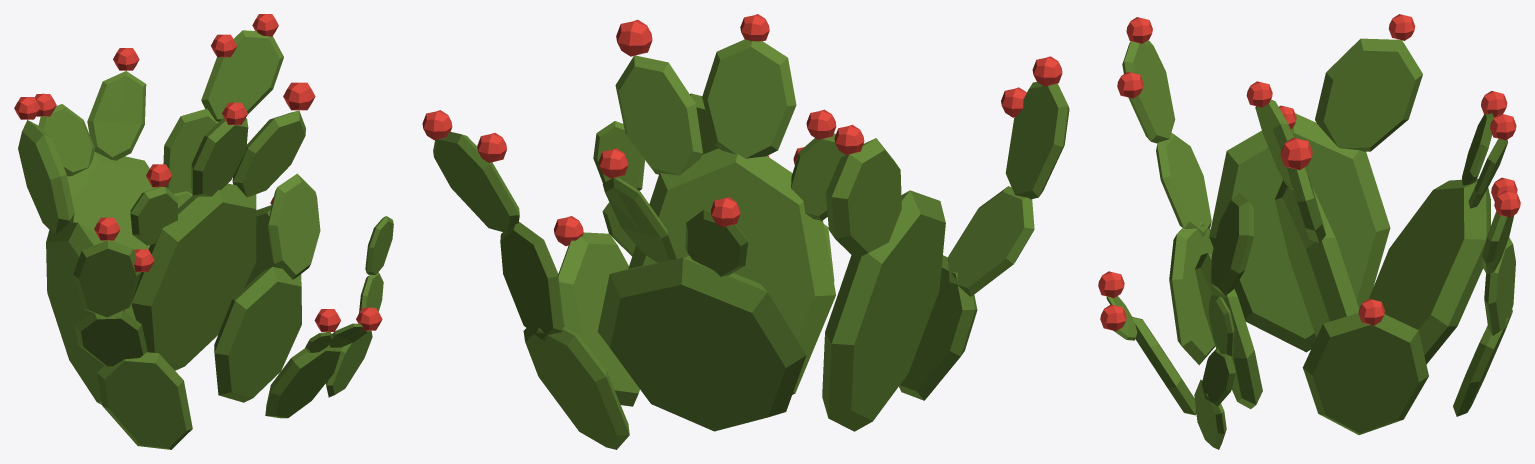
File: Cactus_7.fbx
3 views of the same model, side by side, from view 1: azimuth 30°, elevation 25°; view 2: azimuth 150°, elevation 25°; view 3: azimuth 270°, elevation 25° (orthographic). The views are drawn at different scales.
Visible parts, largest first — view 1: Cactus_7; view 2: Cactus_7; view 3: Cactus_7.
Boxes of the visible parts, x1,y1,x2,y2 form: Cactus_7: (14,14,393,449); Cactus_7: (422,14,1069,449); Cactus_7: (1098,14,1520,449).
Bounding box in the file's own units: 83.08 × 77.26 × 66.89.
